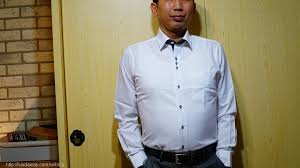F_shirt: (111, 26, 242, 168)
